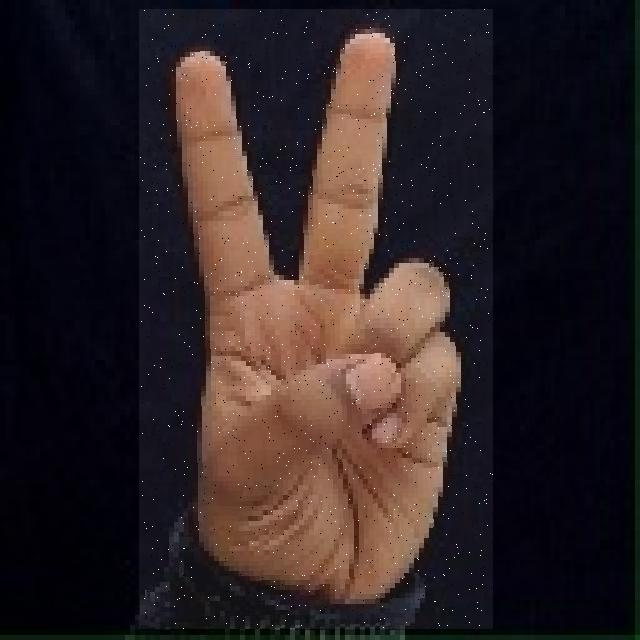No: (139, 9, 493, 629)
